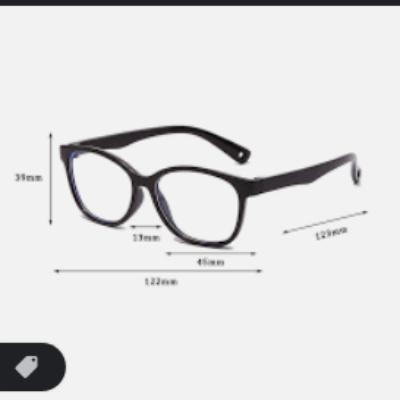glasses: (59, 123, 367, 252)
